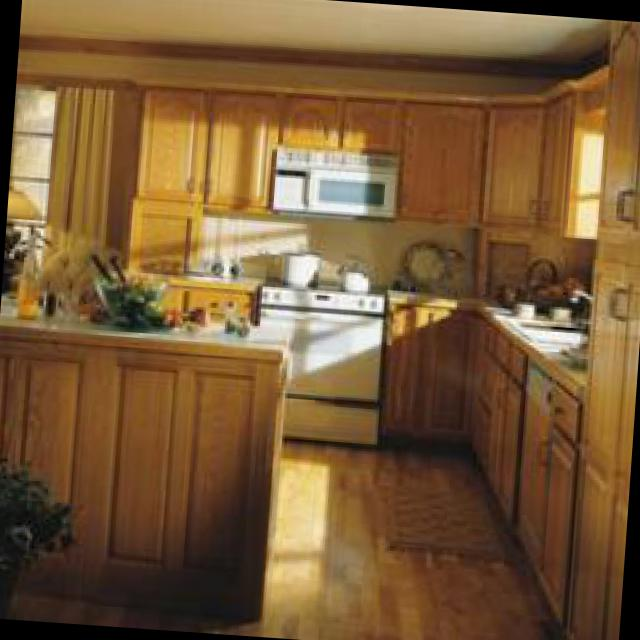2001: (14, 81, 61, 213), (574, 72, 608, 237)
basket crop: (522, 254, 589, 314)
bottle crop: (20, 235, 45, 315), (233, 252, 249, 272), (214, 253, 231, 271)
bowl -X: (95, 271, 170, 319)
cabinet door: (138, 80, 587, 235), (379, 297, 581, 625), (387, 303, 587, 623), (561, 20, 640, 640), (569, 21, 640, 640), (133, 200, 203, 274)
cabinets: (0, 323, 295, 614), (141, 88, 579, 232)
ceiling beam: (23, 0, 612, 77)
counter bottom: (394, 288, 593, 396), (2, 286, 295, 347), (193, 266, 265, 288)
cup and saucer: (192, 304, 213, 322), (167, 308, 183, 323), (558, 304, 573, 315), (521, 302, 537, 312)
curtain crop: (49, 81, 116, 240)
island counter: (0, 286, 298, 617)
kettle: (339, 252, 384, 290)
lamp crop: (7, 188, 42, 278)
microwave oven: (267, 144, 405, 218), (278, 147, 399, 212)
oven cloth: (254, 274, 388, 447), (263, 306, 388, 442)
plant -x: (0, 448, 77, 610)
plate food: (405, 235, 451, 286)
pot hanger: (282, 247, 327, 285), (288, 249, 324, 287)
rug -partially obscured-: (389, 481, 504, 556)
sink basin: (503, 315, 590, 351)
sink occluded: (576, 285, 595, 302)
stove burner: (266, 272, 390, 310)
utensils: (92, 247, 130, 279)
